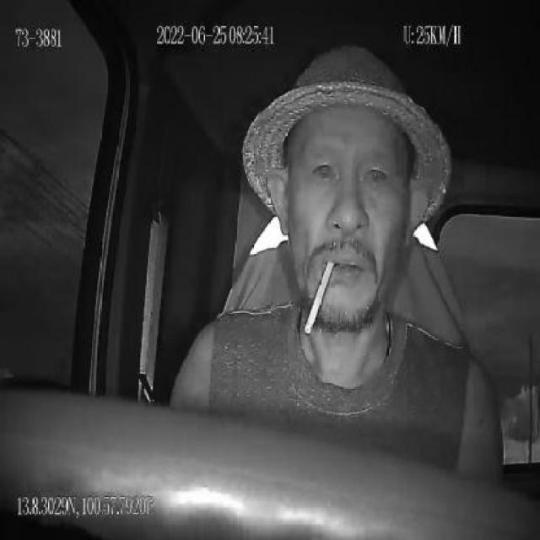smoking: (304, 256, 337, 342)
